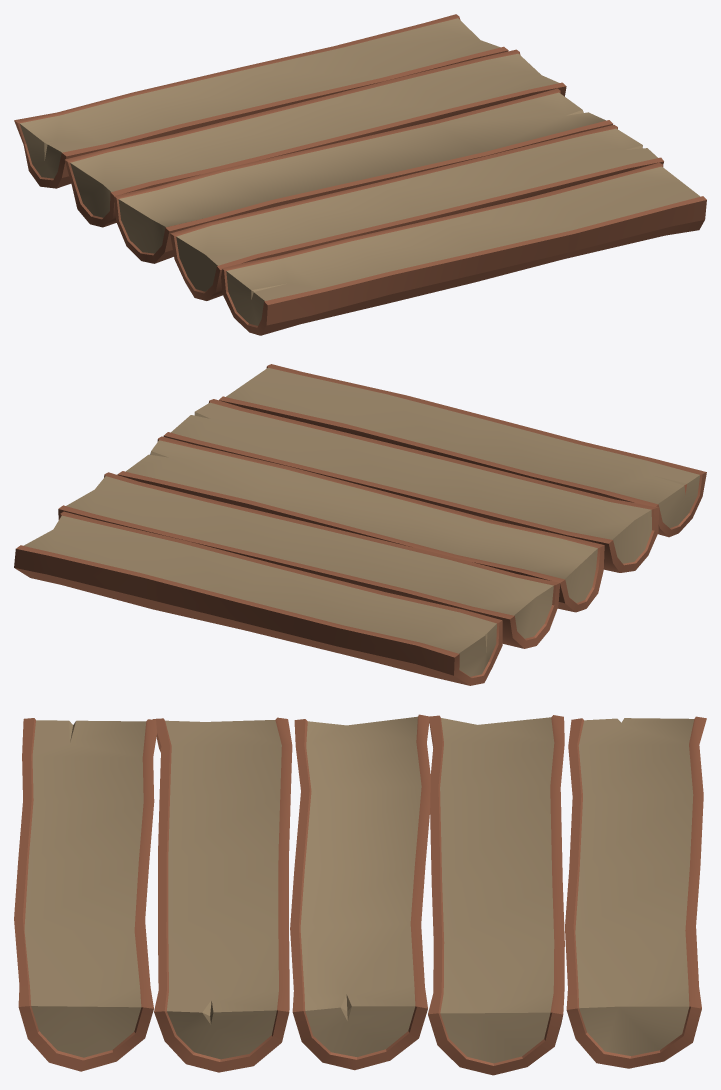
File: LightWoodFloorLarge5BeamPlatform1.fbx
3 renders of one model, top to bottom at view 1: azimuth 30°, elevation 25°; view 2: azimuth 150°, elevation 25°; view 3: azimuth 270°, elevation 25°, orthographic. The views are drawn at different scales.
Parts seen in each view (by area): view 1: LightWoodFloorLarge5BeamPlatform1; view 2: LightWoodFloorLarge5BeamPlatform1; view 3: LightWoodFloorLarge5BeamPlatform1.
Boxes of the visible parts, x1,y1,x2,y2 form: LightWoodFloorLarge5BeamPlatform1: (14, 14, 706, 335); LightWoodFloorLarge5BeamPlatform1: (14, 364, 706, 685); LightWoodFloorLarge5BeamPlatform1: (14, 714, 706, 1075).
Bounding box in the file's own units: 511 × 49.59 × 497.
